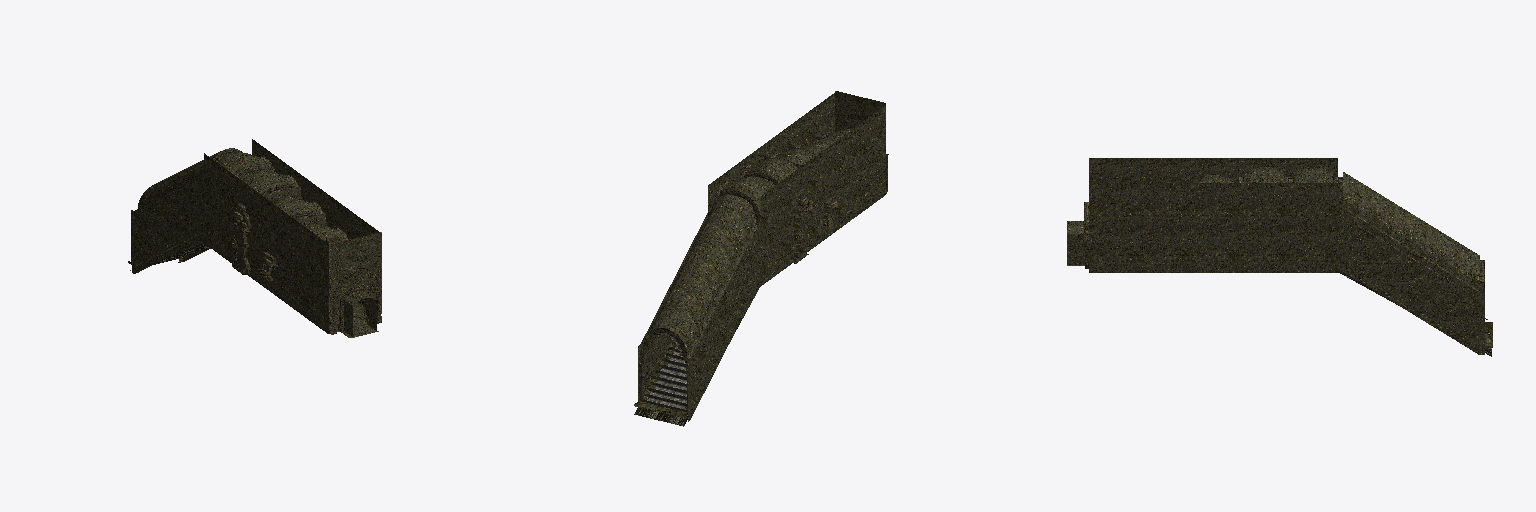
3 views of the same model, side by side, from view 1: azimuth 30°, elevation 25°; view 2: azimuth 150°, elevation 25°; view 3: azimuth 270°, elevation 25° (orthographic).
Visible parts, largest first — view 1: mesh8, mesh2, mesh1; view 2: mesh8, mesh4, mesh7, mesh2, mesh1; view 3: mesh8, mesh2.
Boxes of the visible parts, <box> form: mesh8: <box>131,139,381,336</box>; mesh2: <box>212,148,381,334</box>; mesh1: <box>232,186,367,314</box>; mesh8: <box>638,91,885,421</box>; mesh4: <box>647,347,686,410</box>; mesh7: <box>634,190,886,417</box>; mesh2: <box>644,133,888,356</box>; mesh1: <box>764,136,835,263</box>; mesh8: <box>1067,158,1484,354</box>; mesh2: <box>1084,166,1484,287</box>.
Size of the model in its own units: 3.66 by 10.48 by 23.05.
10 materials, 7 textured.